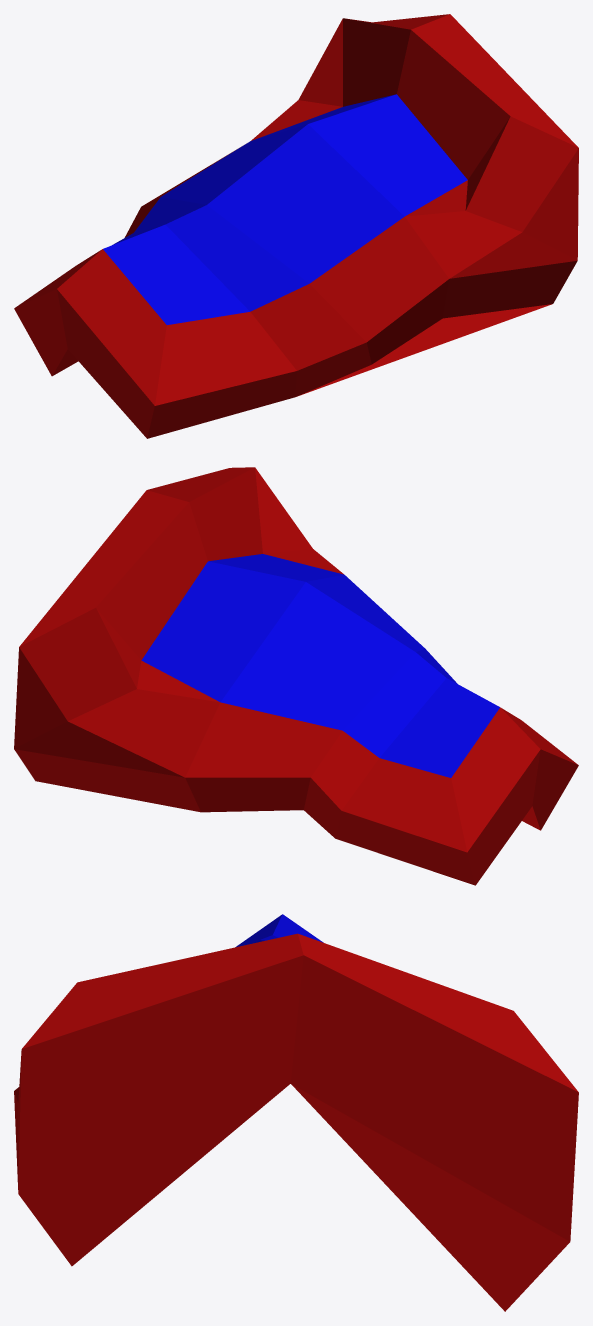
File: Chr_ShoulderAttachRight_Static_13.fbx
The picture shows the model from 3 angles, top to bottom: view 1: azimuth 30°, elevation 25°; view 2: azimuth 150°, elevation 25°; view 3: azimuth 270°, elevation 25°; orthographic projection. The views are drawn at different scales.
Parts seen in each view (by area): view 1: Chr_ShoulderAttachRight_13; view 2: Chr_ShoulderAttachRight_13; view 3: Chr_ShoulderAttachRight_13.
Boxes of the visible parts, x1,y1,x2,y2 form: Chr_ShoulderAttachRight_13: (14, 14, 578, 438); Chr_ShoulderAttachRight_13: (14, 467, 578, 885); Chr_ShoulderAttachRight_13: (14, 914, 578, 1311).
Bounding box in the file's own units: 29.34 × 19.32 × 24.94.
